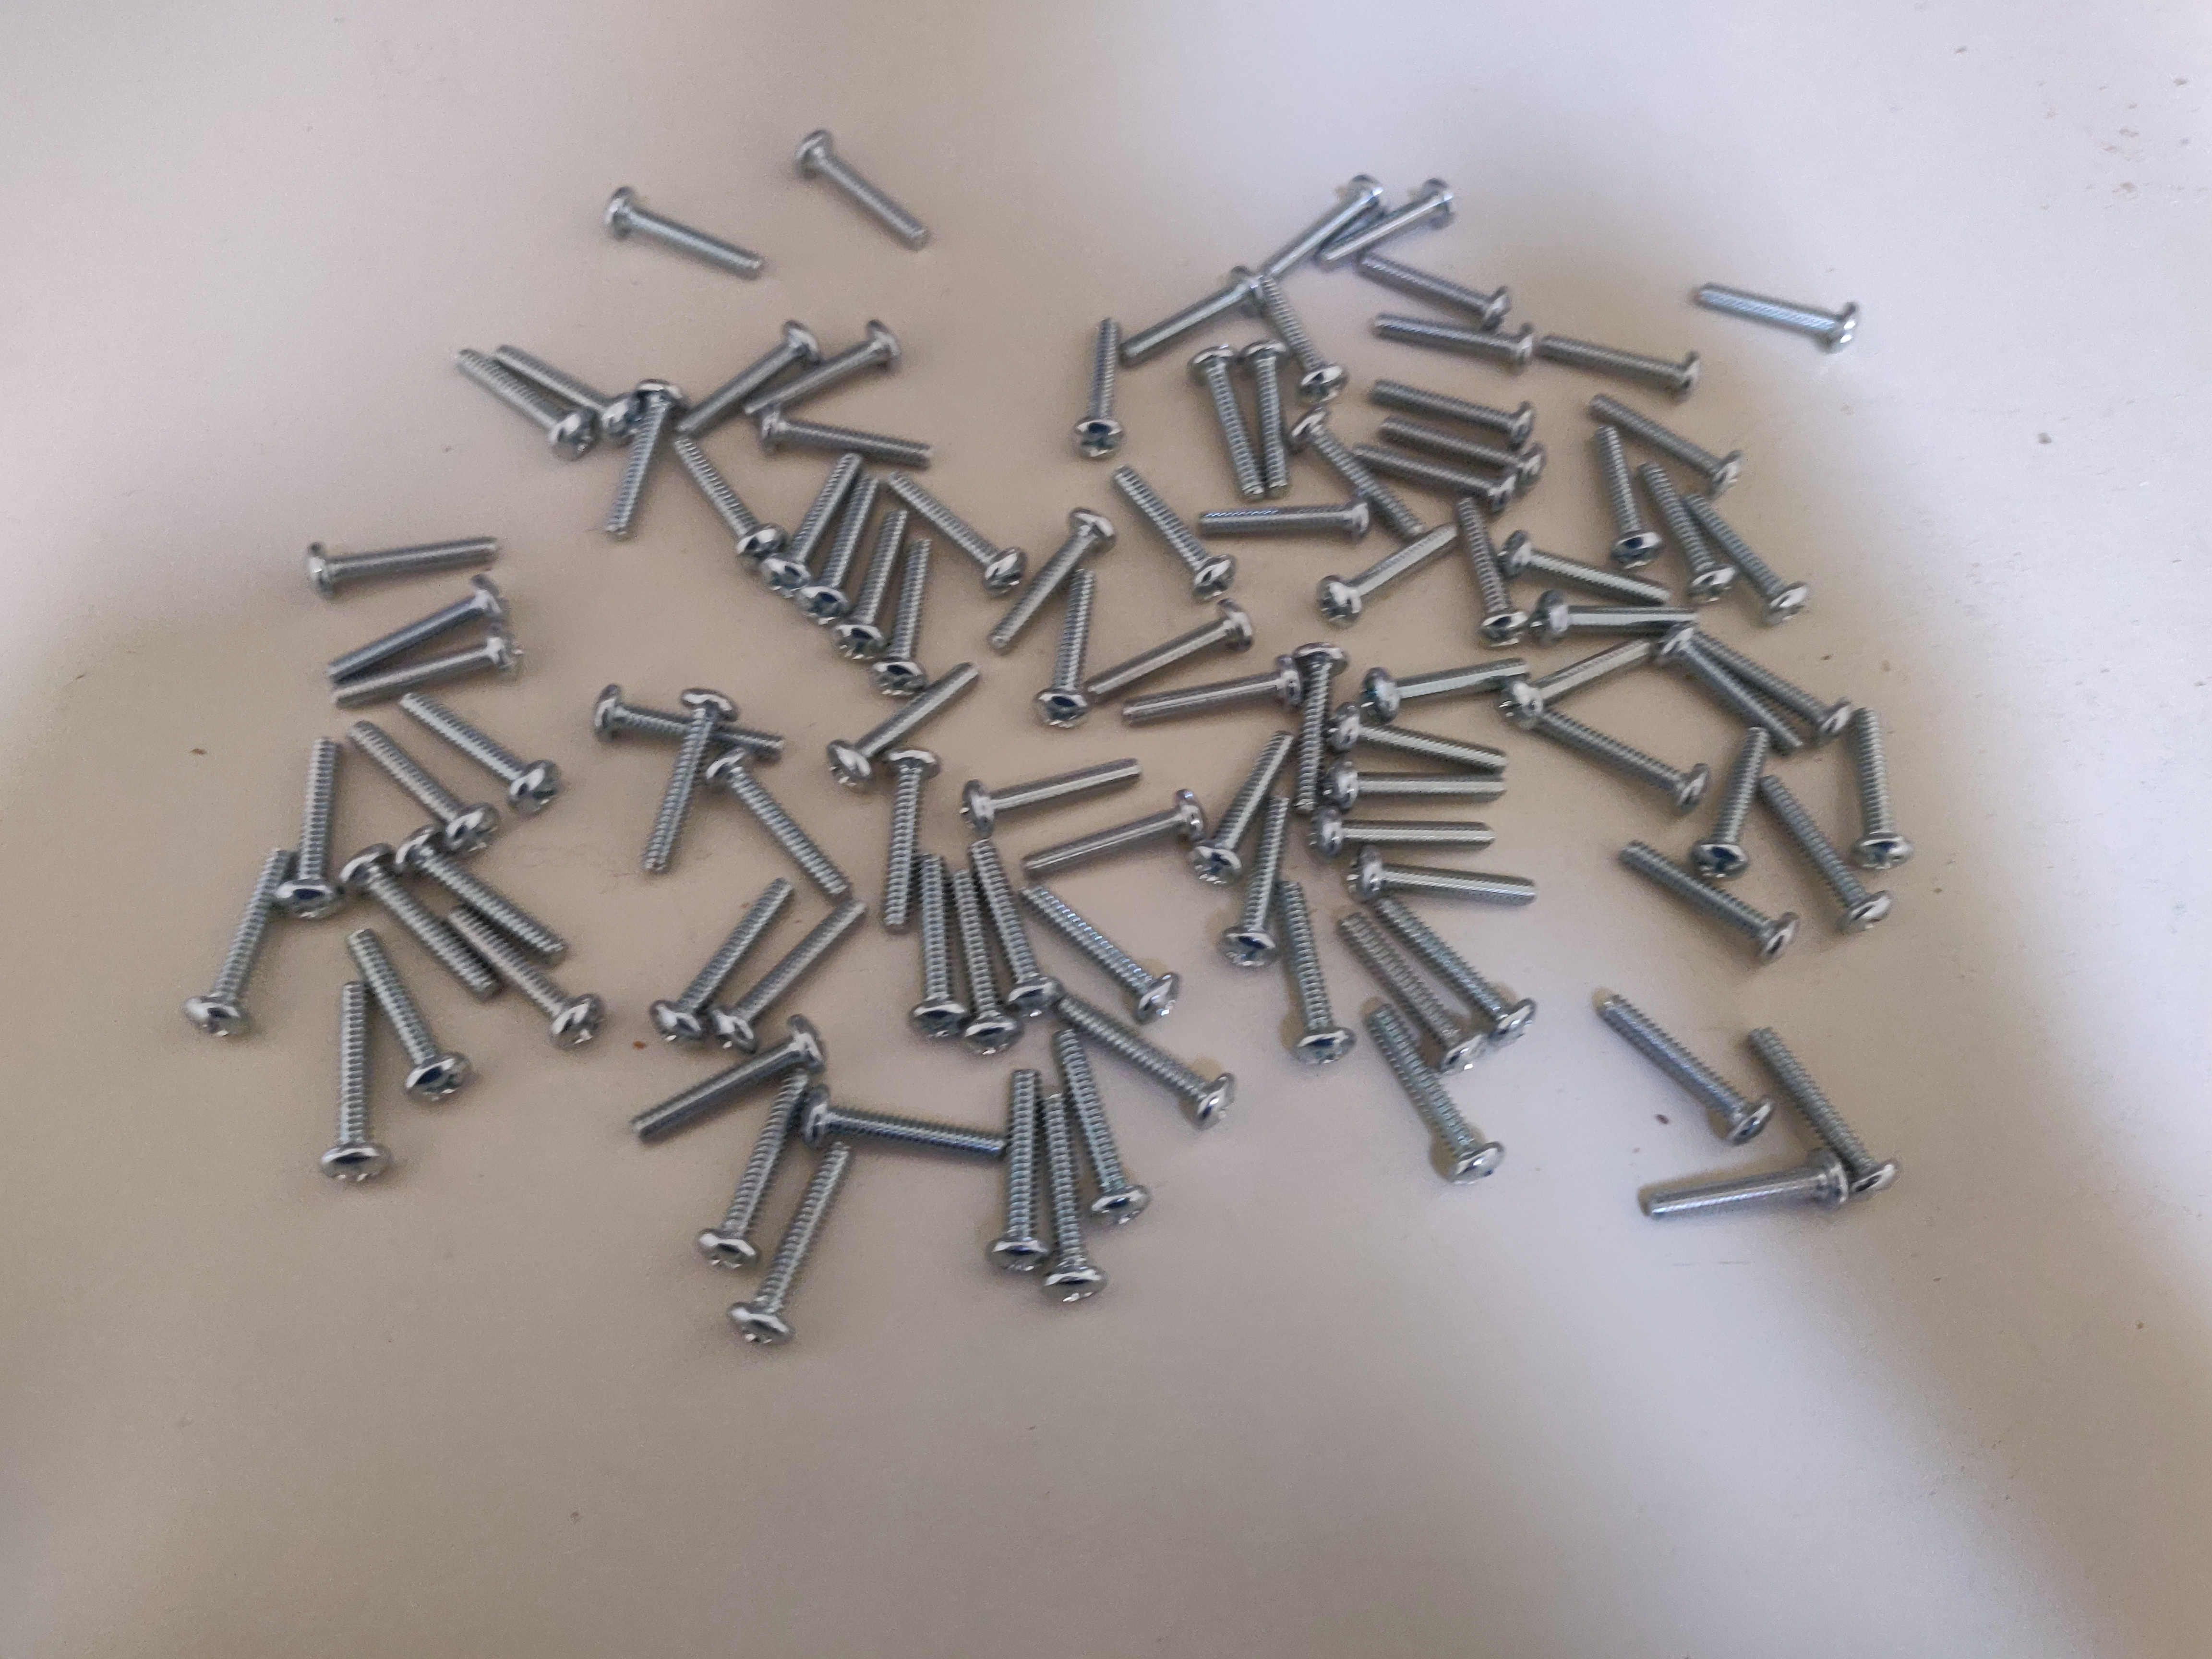longscrew: (1592, 965, 1770, 1140), (644, 863, 796, 1054), (624, 1007, 824, 1147), (428, 908, 610, 1060), (324, 852, 503, 1004), (719, 880, 874, 1053), (1526, 681, 1712, 819), (688, 753, 860, 899), (733, 1134, 850, 1351), (1359, 1004, 1496, 1187), (698, 1051, 808, 1279), (1005, 873, 1174, 1019), (167, 845, 289, 1047), (1750, 1030, 1895, 1194), (1057, 1004, 1240, 1131), (1745, 769, 1885, 934), (1616, 831, 1792, 958), (329, 941, 474, 1094), (1362, 901, 1531, 1032), (385, 838, 573, 953), (1331, 917, 1479, 1061), (799, 1070, 1010, 1169), (1042, 1039, 1153, 1225), (1693, 610, 1846, 742), (601, 664, 799, 763), (833, 659, 984, 788), (1693, 242, 1869, 352), (331, 727, 495, 842), (402, 692, 566, 807), (1663, 626, 1808, 751), (1306, 504, 1460, 620), (1188, 727, 1299, 887), (881, 479, 1031, 598), (329, 626, 516, 720), (974, 833, 1069, 1016), (989, 511, 1113, 652), (305, 978, 388, 1185), (669, 432, 796, 568), (1688, 483, 1806, 627), (1585, 366, 1731, 483), (678, 312, 817, 434), (329, 575, 500, 674), (648, 680, 730, 885), (1099, 464, 1235, 586), (1500, 511, 1674, 605), (1031, 1082, 1103, 1307), (1630, 1147, 1855, 1218), (1294, 406, 1418, 535), (1022, 788, 1207, 873), (603, 366, 686, 554), (979, 1060, 1049, 1284), (744, 315, 897, 416), (455, 352, 599, 458), (495, 342, 639, 448), (756, 383, 941, 465), (1266, 880, 1345, 1072), (812, 127, 930, 253), (1536, 307, 1698, 396), (1364, 225, 1510, 322), (1049, 308, 1137, 469), (1367, 357, 1529, 444), (860, 537, 949, 695), (1122, 270, 1280, 359), (1334, 692, 1517, 769), (1691, 711, 1773, 880), (1266, 166, 1390, 277), (1089, 605, 1244, 694), (1501, 636, 1658, 723), (1334, 157, 1458, 267), (1352, 840, 1541, 911), (1379, 397, 1545, 479), (815, 519, 914, 655), (768, 453, 866, 589), (786, 481, 883, 617), (1348, 429, 1521, 505), (277, 742, 348, 927), (965, 755, 1150, 826), (1634, 460, 1730, 598), (948, 843, 1012, 1046), (1449, 479, 1526, 648), (1198, 477, 1388, 545), (610, 186, 758, 274), (1366, 293, 1541, 366), (1223, 779, 1287, 974), (1244, 274, 1348, 394), (1106, 664, 1322, 720), (1843, 706, 1912, 870), (1184, 347, 1261, 493), (1031, 563, 1096, 735), (310, 533, 507, 587), (1285, 641, 1345, 812), (1590, 430, 1665, 565), (1315, 803, 1508, 850), (1540, 579, 1712, 631), (885, 748, 928, 934), (1334, 758, 1507, 805), (1242, 345, 1296, 491), (914, 854, 956, 1040), (1362, 657, 1527, 701)
